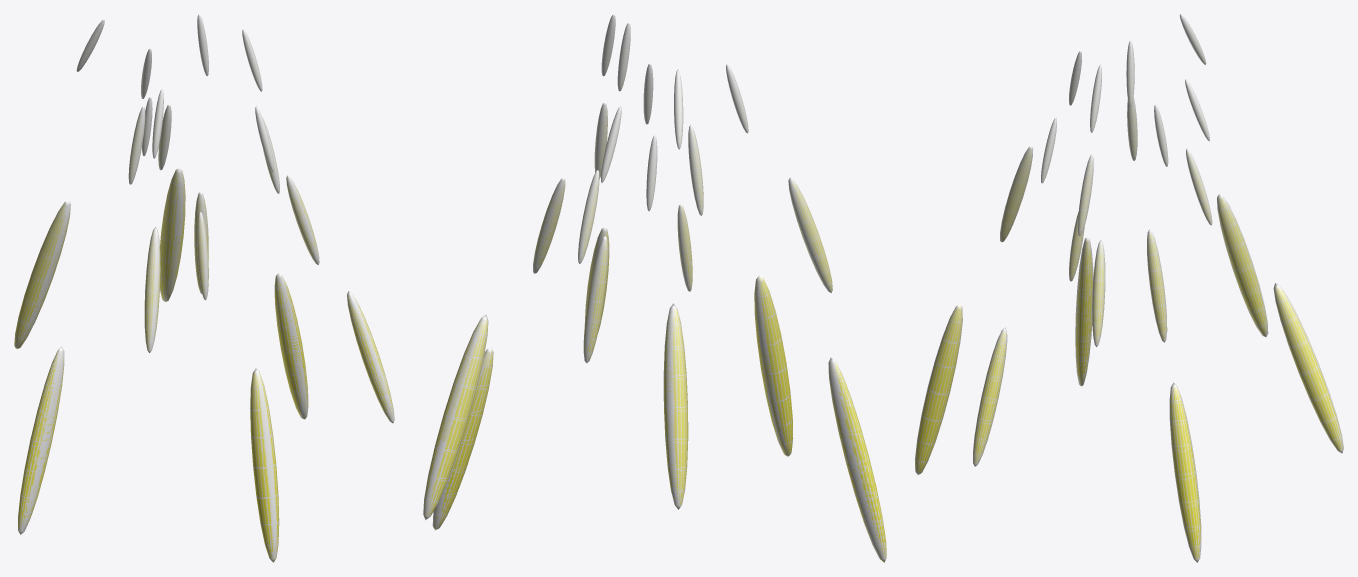
File: hikari01.FBX
The picture shows the model from 3 angles, left to right: view 1: azimuth 30°, elevation 25°; view 2: azimuth 150°, elevation 25°; view 3: azimuth 270°, elevation 25°; orthographic projection. The views are drawn at different scales.
Visible parts, largest first — view 1: オブジェクト011, オブジェクト014, オブジェクト001, オブジェクト012, オブジェクト004, オブジェクト006, オブジェクト005, オブジェクト013, オブジェクト002, オブジェクト009, オブジェクト010, オブジェクト007 (+1 smaller); view 2: オブジェクト006, オブジェクト014, オブジェクト012, オブジェクト001, オブジェクト011, オブジェクト004, オブジェクト007, オブジェクト013, オブジェクト002, オブジェクト008, オブジェクト009, オブジェクト010 (+1 smaller); view 3: オブジェクト011, オブジェクト006, オブジェクト004, オブジェクト001, オブジェクト012, オブジェクト014, オブジェクト005, オブジェクト007, オブジェクト013, オブジェクト002, オブジェクト003, オブジェクト008 (+1 smaller).
Part boxes in pixels (left/top/right/bottom): オブジェクト011: left=250, top=368, right=279, bottom=562; オブジェクト014: left=18, top=347, right=64, bottom=534; オブジェクト001: left=76, top=14, right=274, bottom=171; オブジェクト012: left=14, top=200, right=70, bottom=349; オブジェクト004: left=274, top=273, right=308, bottom=419; オブジェクト006: left=160, top=168, right=185, bottom=302; オブジェクト005: left=347, top=291, right=394, bottom=423; オブジェクト013: left=144, top=227, right=160, bottom=352; オブジェクト002: left=286, top=175, right=319, bottom=264; オブジェクト009: left=197, top=212, right=208, bottom=300; オブジェクト010: left=128, top=106, right=145, bottom=184; オブジェクト007: left=194, top=191, right=208, bottom=294; オブジェクト006: left=423, top=315, right=488, bottom=520; オブジェクト014: left=828, top=357, right=886, bottom=562; オブジェクト012: left=663, top=303, right=688, bottom=509; オブジェクト001: left=601, top=14, right=748, bottom=211; オブジェクト011: left=754, top=275, right=793, bottom=457; オブジェクト004: left=432, top=347, right=493, bottom=530; オブジェクト007: left=583, top=236, right=608, bottom=363; オブジェクト013: left=788, top=177, right=832, bottom=293; オブジェクト002: left=533, top=177, right=565, bottom=273; オブジェクト008: left=578, top=170, right=599, bottom=263; オブジェクト009: left=677, top=204, right=692, bottom=291; オブジェクト010: left=688, top=125, right=703, bottom=215; オブジェクト011: left=915, top=304, right=962, bottom=475; オブジェクト006: left=1273, top=283, right=1343, bottom=453; オブジェクト004: left=1169, top=382, right=1201, bottom=562; オブジェクト001: left=1041, top=14, right=1209, bottom=183; オブジェクト012: left=1217, top=194, right=1268, bottom=337; オブジェクト014: left=1075, top=236, right=1093, bottom=386; オブジェクト005: left=973, top=327, right=1007, bottom=466; オブジェクト007: left=1147, top=229, right=1167, bottom=342; オブジェクト013: left=1000, top=145, right=1033, bottom=242; オブジェクト002: left=1092, top=240, right=1105, bottom=346; オブジェクト003: left=1077, top=154, right=1093, bottom=236; オブジェクト008: left=1186, top=149, right=1212, bottom=225.
Bounding box in the file's own units: 350 × 447 × 381.
1 material, 1 textured.
